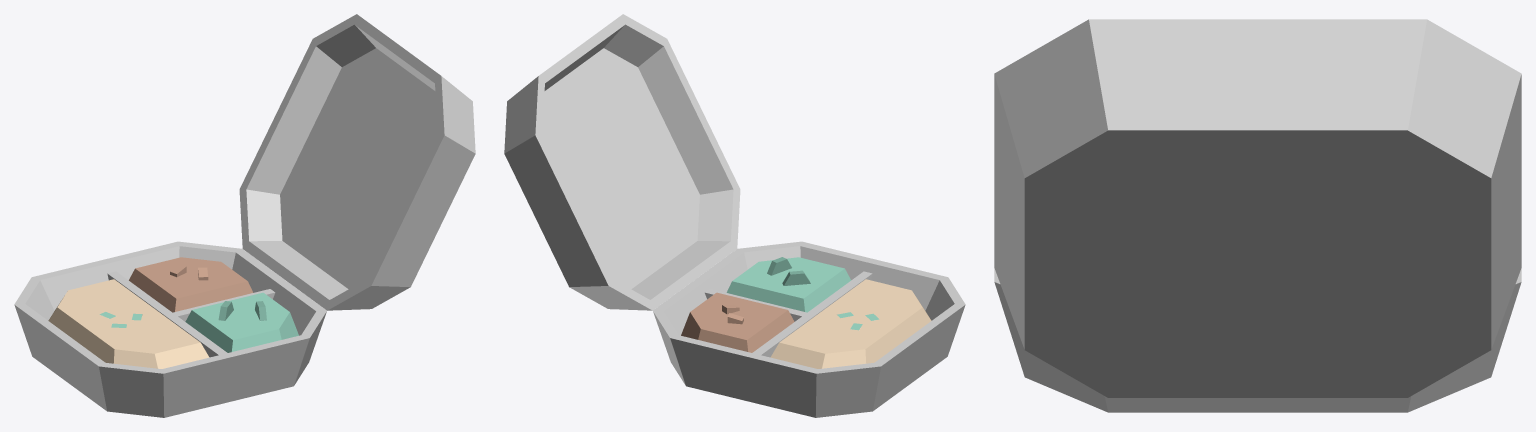
3 views of the same model, side by side, from view 1: azimuth 30°, elevation 25°; view 2: azimuth 150°, elevation 25°; view 3: azimuth 270°, elevation 25° (orthographic). The views are drawn at different scales.
Visible parts, largest first — view 1: lid, styrofoamDinner; view 2: lid, styrofoamDinner; view 3: lid, styrofoamDinner.
Part boxes in pixels (x1,y1,x2,y2): lid: (239,14,475,310); styrofoamDinner: (14,241,326,417); lid: (504,14,740,310); styrofoamDinner: (653,241,965,417); lid: (994,19,1521,397); styrofoamDinner: (994,268,1521,412).
Size of the model in its own units: 1.26 by 0.8219 by 0.7589.
